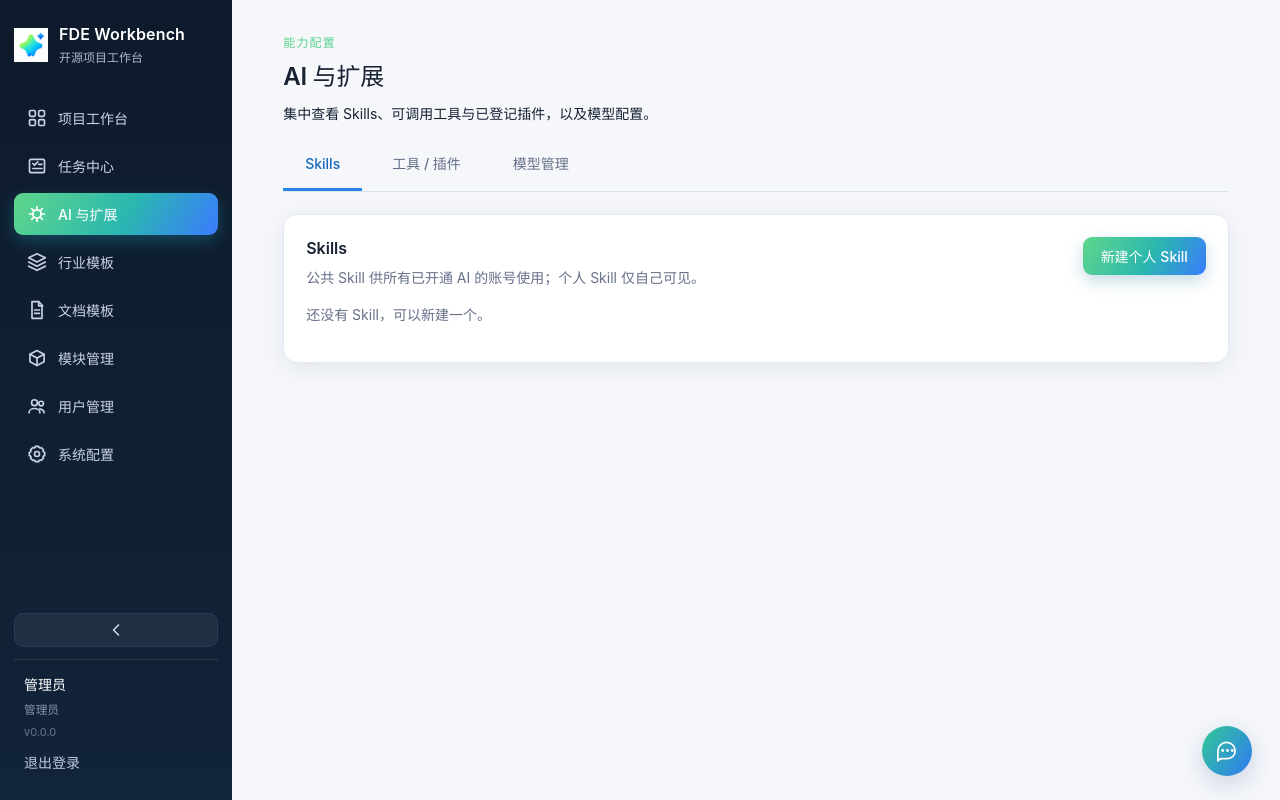
Scenario: shows extension boundaries and saves a personal Skill
expect the heading "AI 与扩展" is shown: met, box [283,62,384,91]
expect the tab "模型管理" is shown: met, box [491,139,591,191]
Click the button "新建个人 Skill": (1144, 256) [1083,237,1206,275]
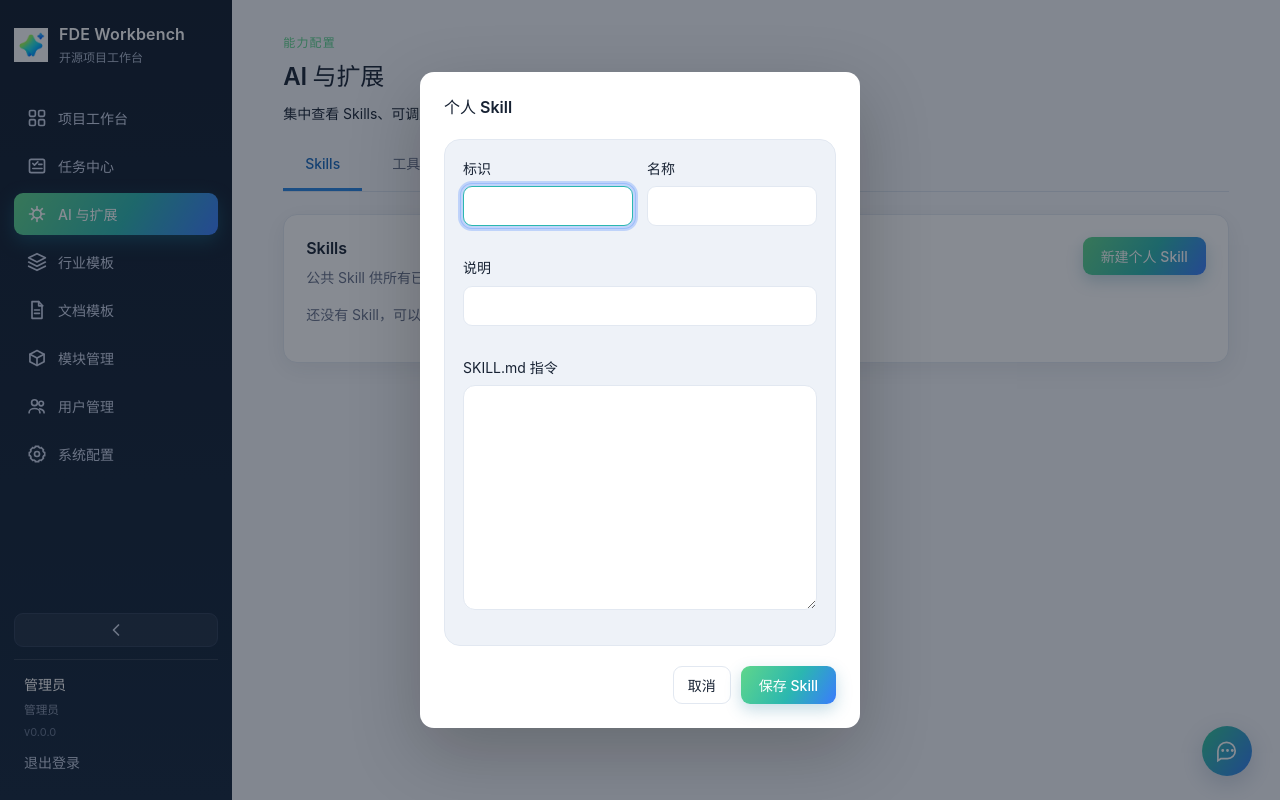
In the field named "Skill 标识": (548, 206) [463,186,633,226], type "meeting-summary"
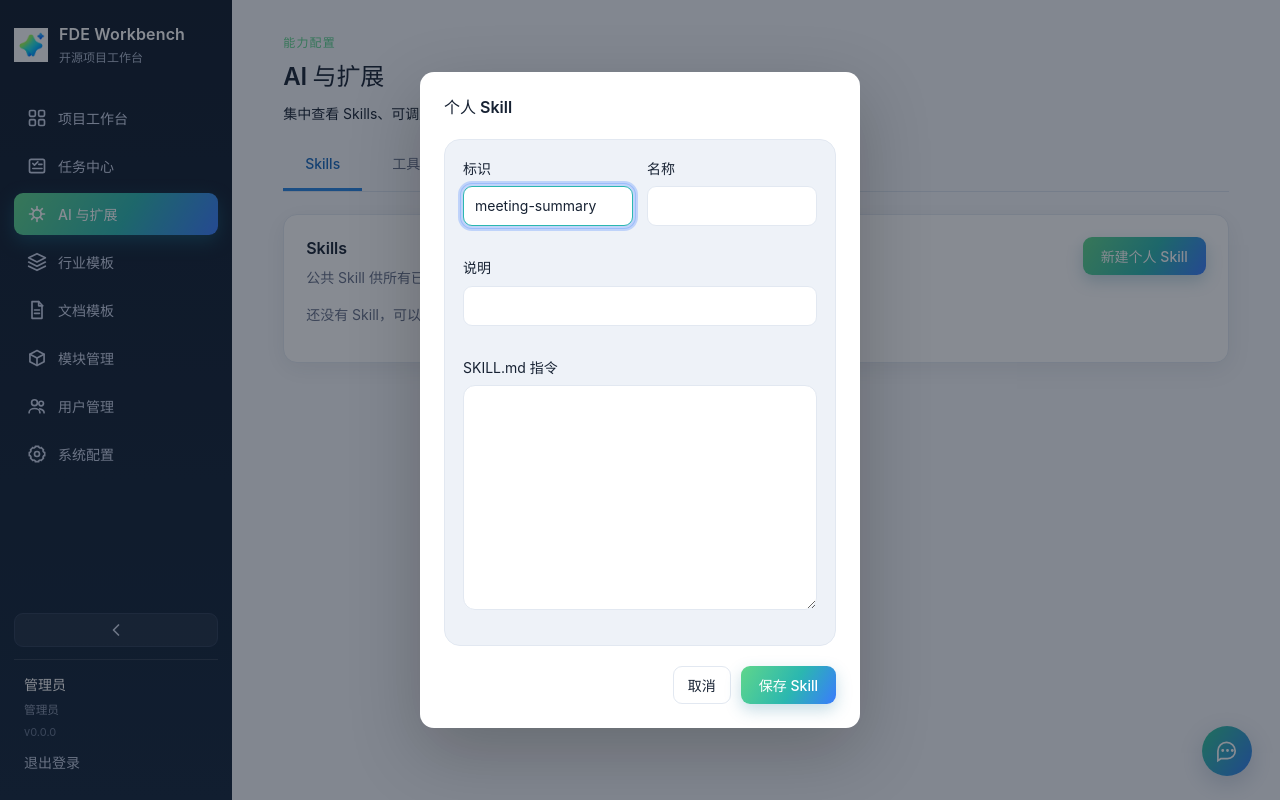
In the field named "Skill 名称": (732, 206) [647,186,817,226], type "会议纪要整理"
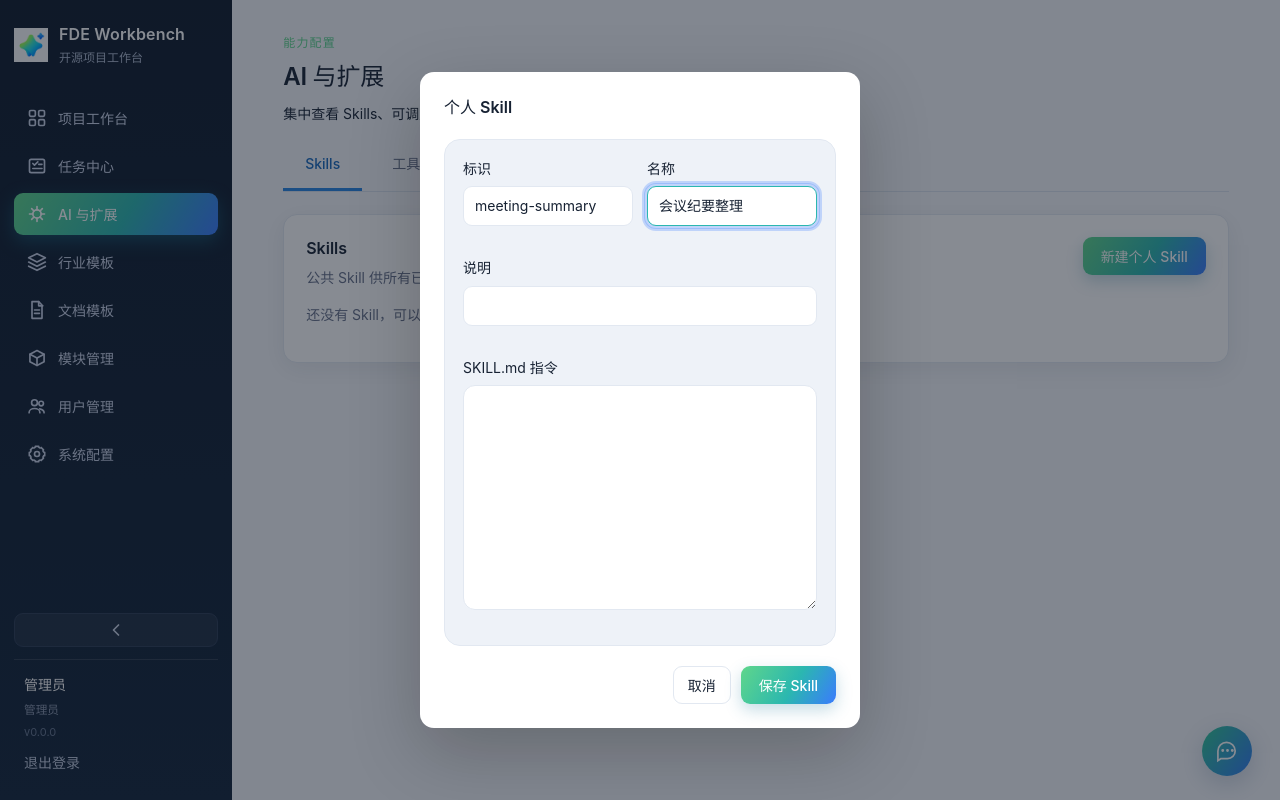
In the text box labelled "SKILL.md 指令": (640, 498) [463,385,817,610], type "# 整理会议"
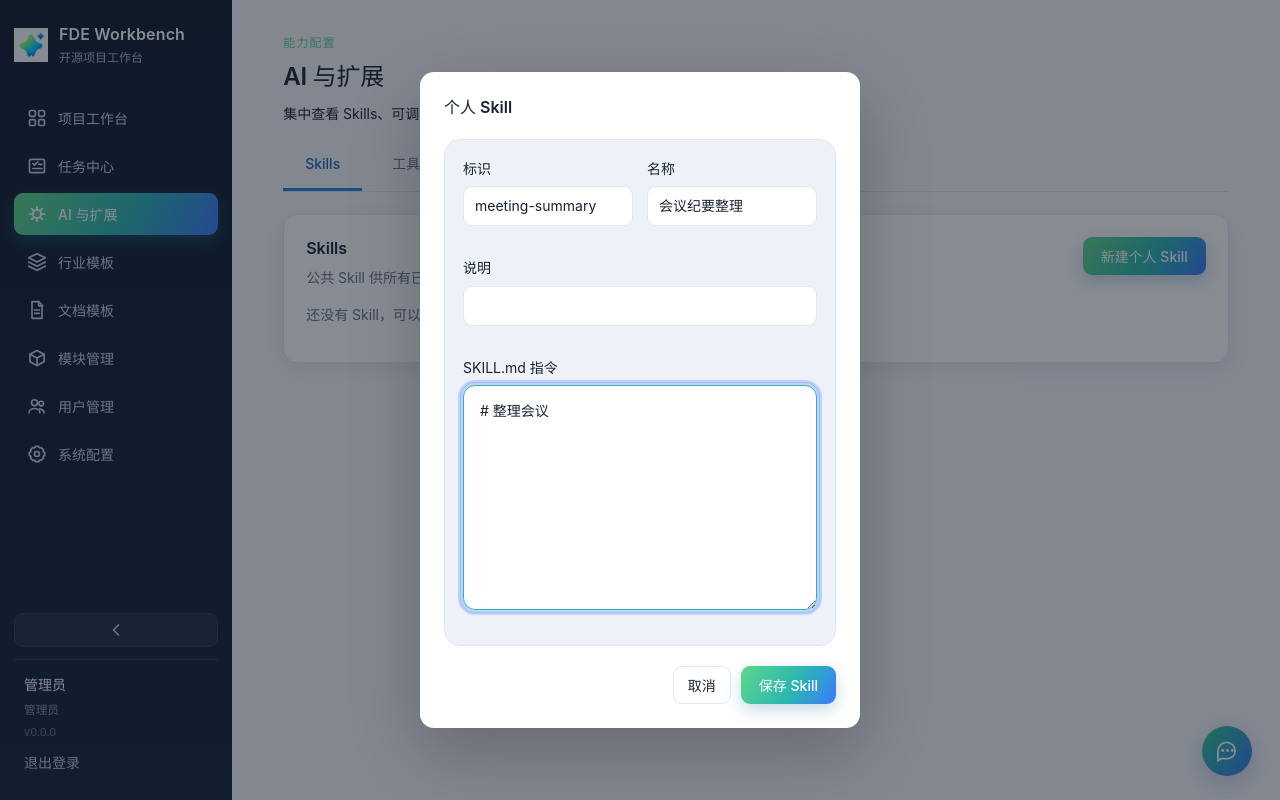
Click the button "保存 Skill": (788, 685) [741,666,836,704]
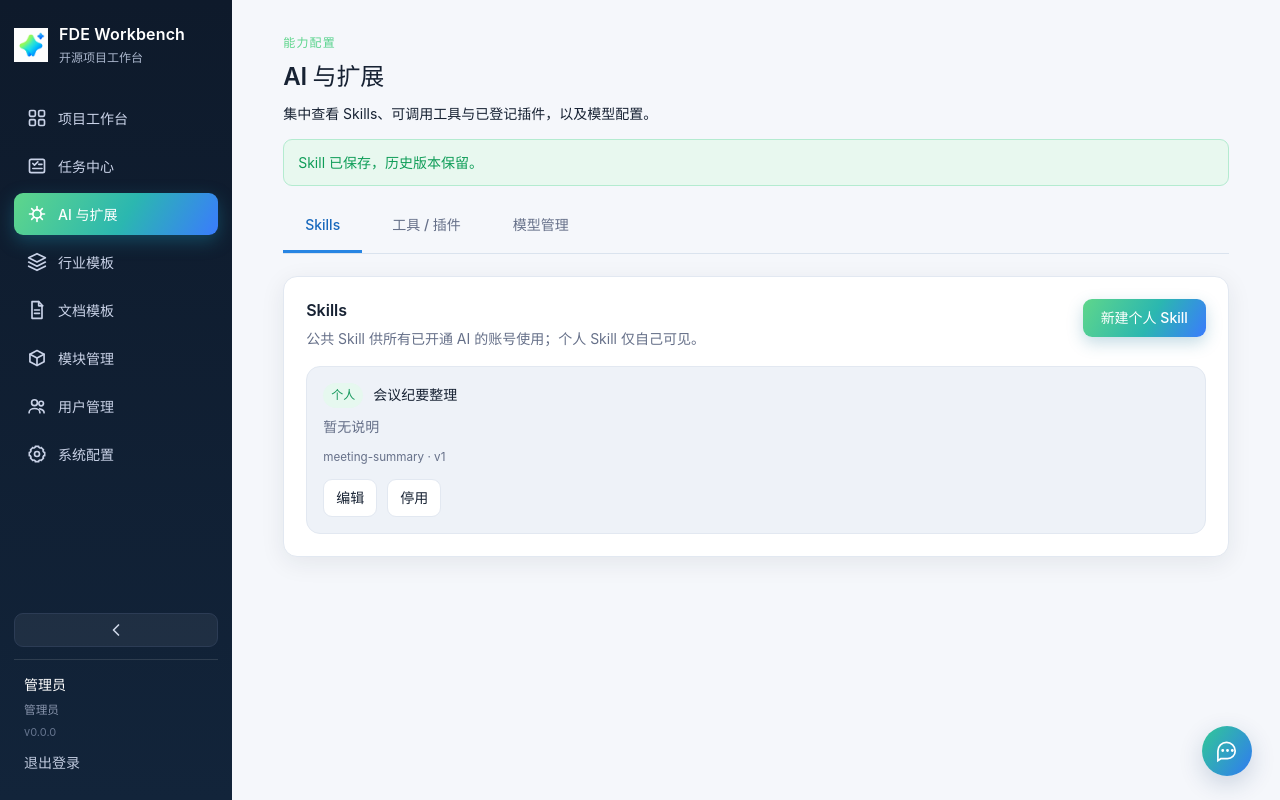
expect the text "会议纪要整理" is shown: met, box [373,384,457,406]
